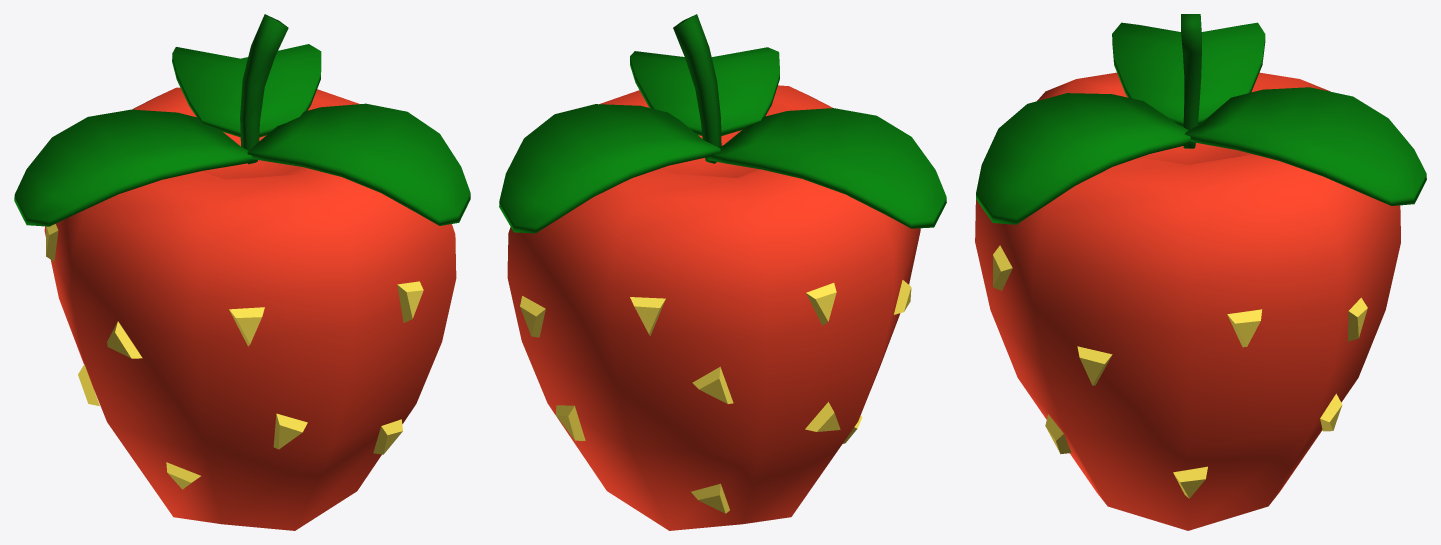
File: Strawberry.fbx
The picture shows the model from 3 angles, left to right: view 1: azimuth 30°, elevation 25°; view 2: azimuth 150°, elevation 25°; view 3: azimuth 270°, elevation 25°; orthographic projection. The views are drawn at different scales.
Visible parts, largest first — view 1: Strawberry; view 2: Strawberry; view 3: Strawberry.
Part boxes in pixels (left/top/right/bottom): Strawberry: left=14, top=14, right=470, bottom=530; Strawberry: left=499, top=14, right=946, bottom=530; Strawberry: left=975, top=14, right=1426, bottom=530.
Size of the model in its own units: 0.2199 by 0.2588 by 0.2086.
